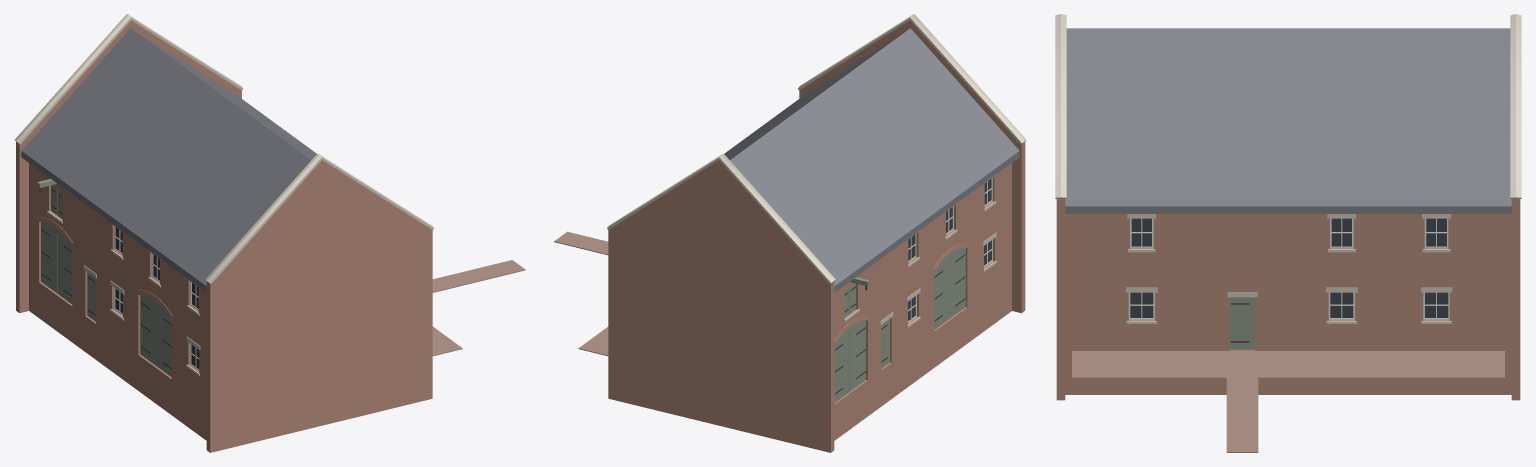
The model's file is marsh_house_1824_prairie_coach_house__as_standing_1904.glb.
The picture shows the model from 3 angles, left to right: view 1: azimuth 30°, elevation 25°; view 2: azimuth 150°, elevation 25°; view 3: azimuth 270°, elevation 25°; orthographic projection. The views are drawn at different scales.
Visible parts, largest first — view 1: marsh_house_1824_prairie_coach_house__as_standing_1904; view 2: marsh_house_1824_prairie_coach_house__as_standing_1904; view 3: marsh_house_1824_prairie_coach_house__as_standing_1904.
Part boxes in pixels (<box>): marsh_house_1824_prairie_coach_house__as_standing_1904: <box>14,14,525,452</box>; marsh_house_1824_prairie_coach_house__as_standing_1904: <box>554,14,1026,452</box>; marsh_house_1824_prairie_coach_house__as_standing_1904: <box>1055,14,1521,452</box>.
Bounding box in the file's own units: 20.6 × 13.49 × 17.7.
